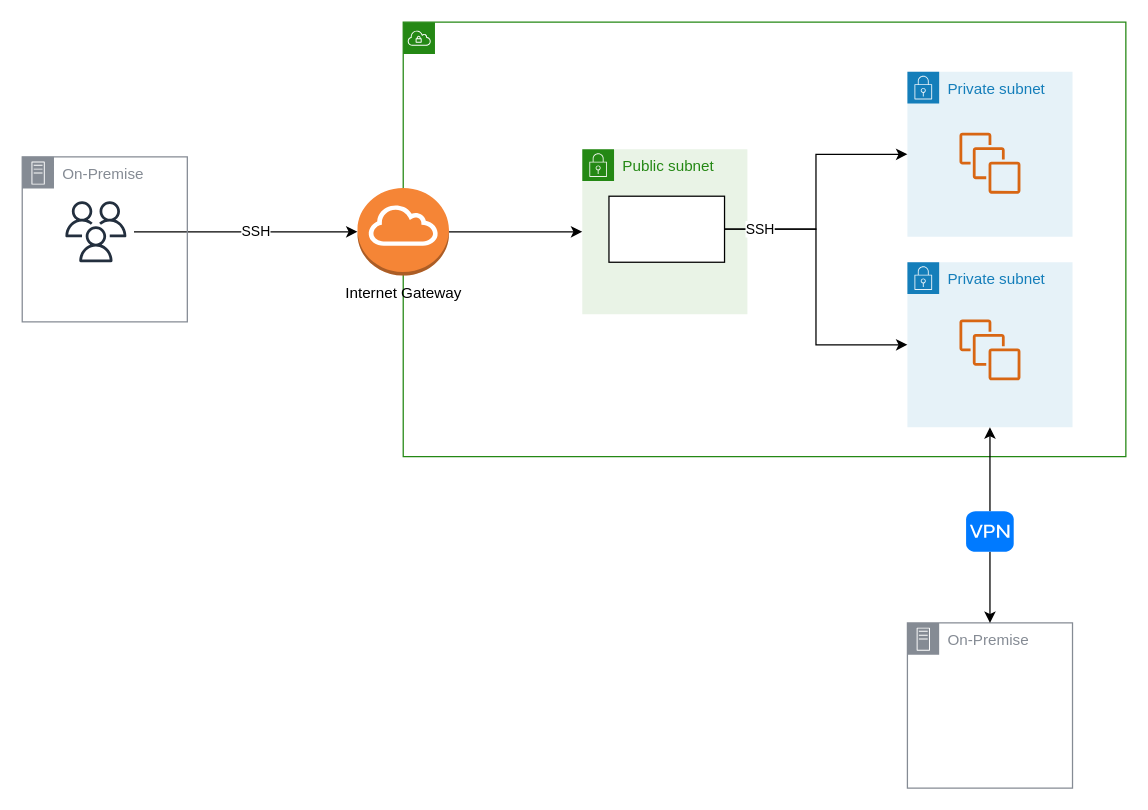
This 1148x810 diagram has some shape labels left out. The box of each missing label's shape, as (x1, y1, x2, y2) in pixels:
Users: (57, 192, 134, 270)
VPC: (402, 21, 1126, 457)
VPN EC2: (608, 195, 725, 262)
